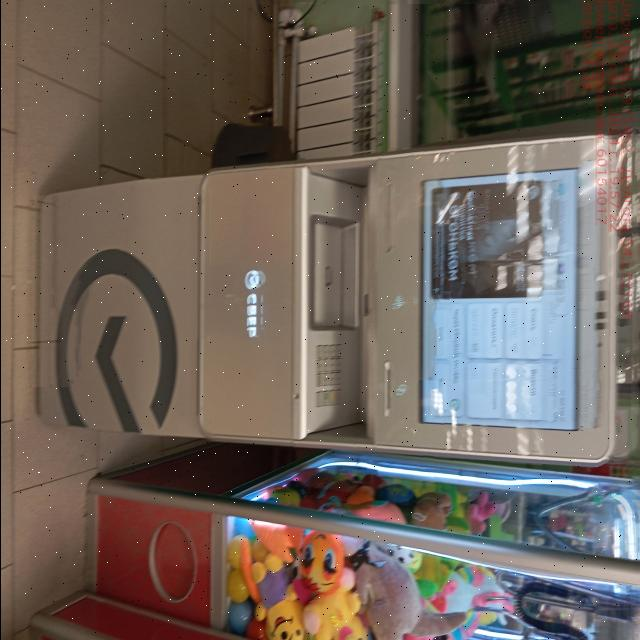bank: (37, 132, 624, 472)
